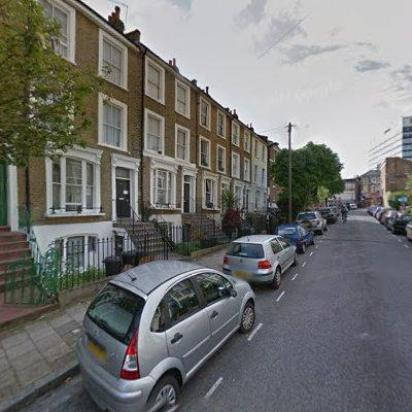moving-bicycle: (340, 203, 348, 223)
stationary-car-onstreet: (73, 258, 256, 412), (220, 235, 300, 291), (274, 222, 316, 254), (295, 211, 327, 237), (386, 211, 408, 235), (318, 207, 336, 223), (404, 217, 412, 242), (376, 207, 390, 221), (380, 208, 390, 226), (349, 203, 357, 209)
